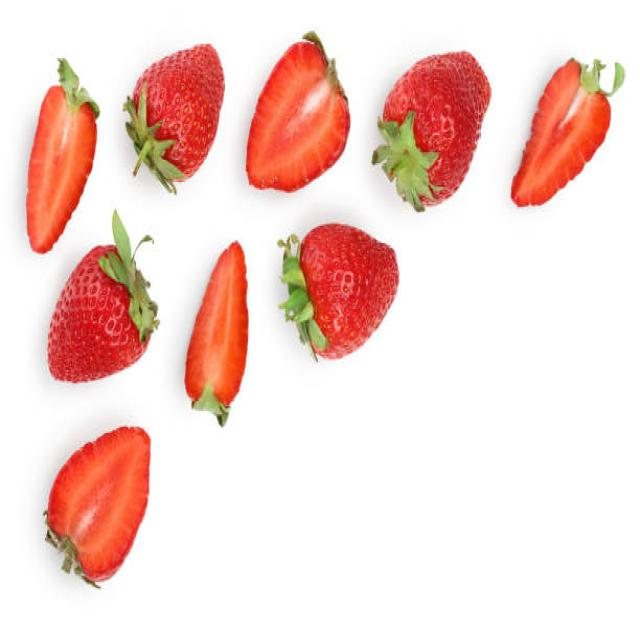Healthy Fruit: (384, 53, 492, 204), (48, 425, 152, 580), (246, 43, 350, 193), (511, 60, 611, 208), (300, 221, 400, 363), (48, 243, 148, 381), (131, 44, 224, 179), (26, 86, 94, 251), (185, 240, 250, 408)
